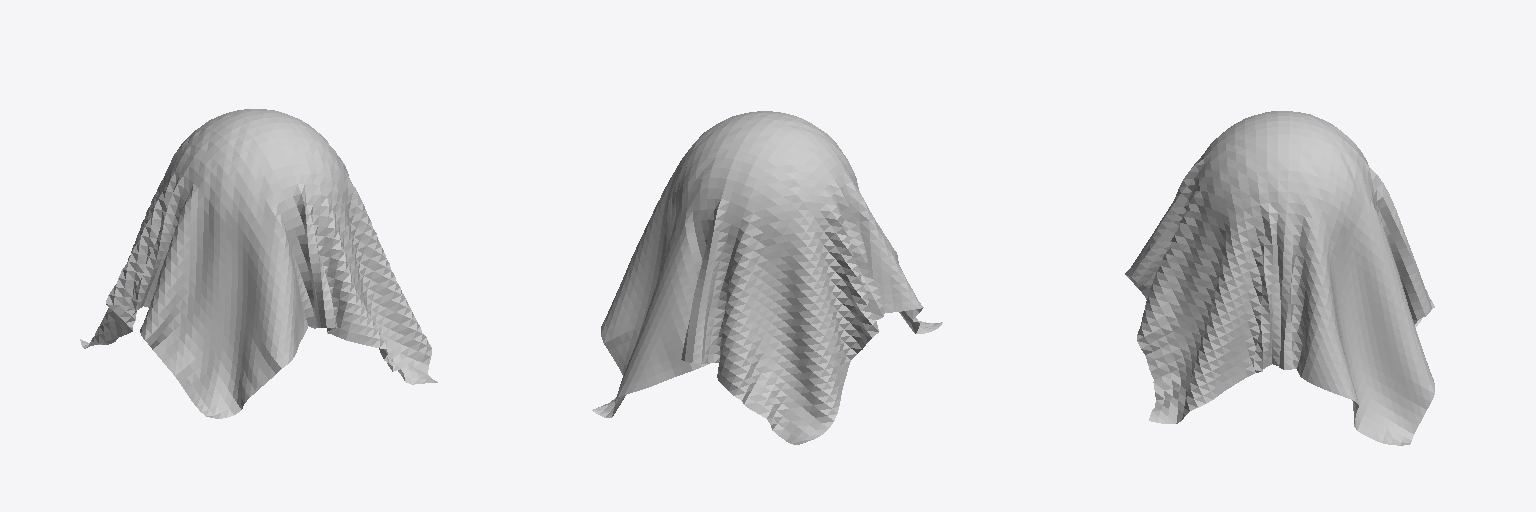
The model's file is material-cloth.obj.
3 renders of one model, left to right at view 1: azimuth 30°, elevation 25°; view 2: azimuth 150°, elevation 25°; view 3: azimuth 270°, elevation 25°, orthographic.
Visible parts, largest first — view 1: material_cloth; view 2: material_cloth; view 3: material_cloth.
Boxes of the visible parts, x1=… form: material_cloth: x1=80, y1=109, x2=437, y2=418; material_cloth: x1=592, y1=111, x2=942, y2=444; material_cloth: x1=1125, y1=111, x2=1434, y2=445.
Size of the model in its own units: 3.34 by 3.28 by 3.37.